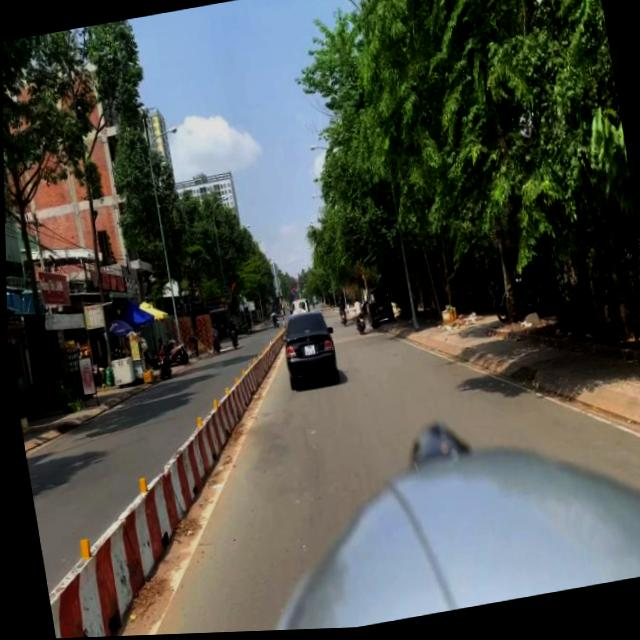Cam di nguoc chieu: (291, 288, 295, 295)
Vong chuong ngai vat sang phai: (291, 294, 295, 299)
